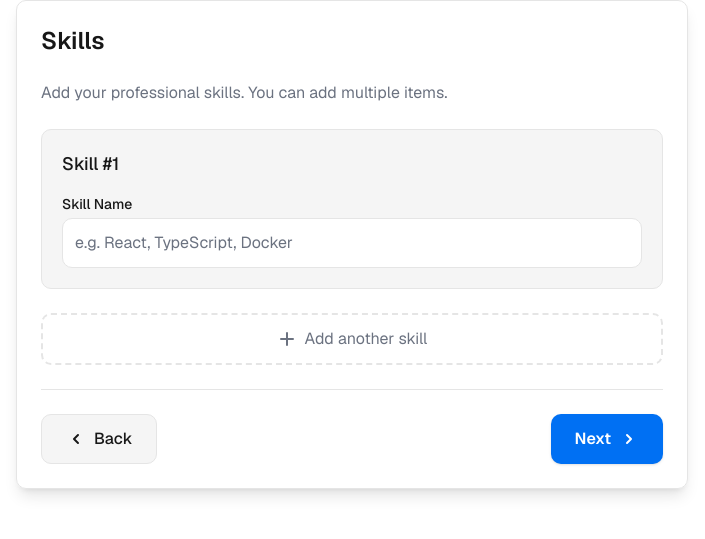
AbilitiesForm Component › powinien wyświetlać błędy walidacji, jęsli pole jest puste podczas pórby zapisu
Click the button "Next".
click(607, 439)  # box top-left (551, 414), bottom-right (663, 464)
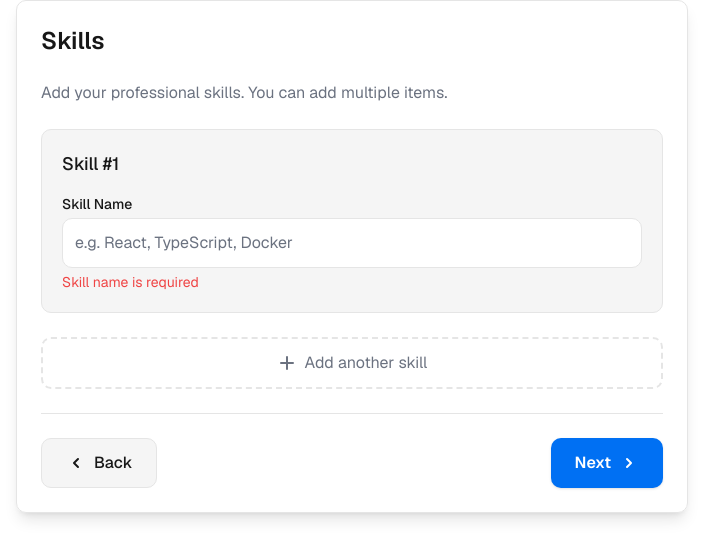
Now the text "Skill name is required" is shown, box top-left (62, 273), bottom-right (199, 291)
